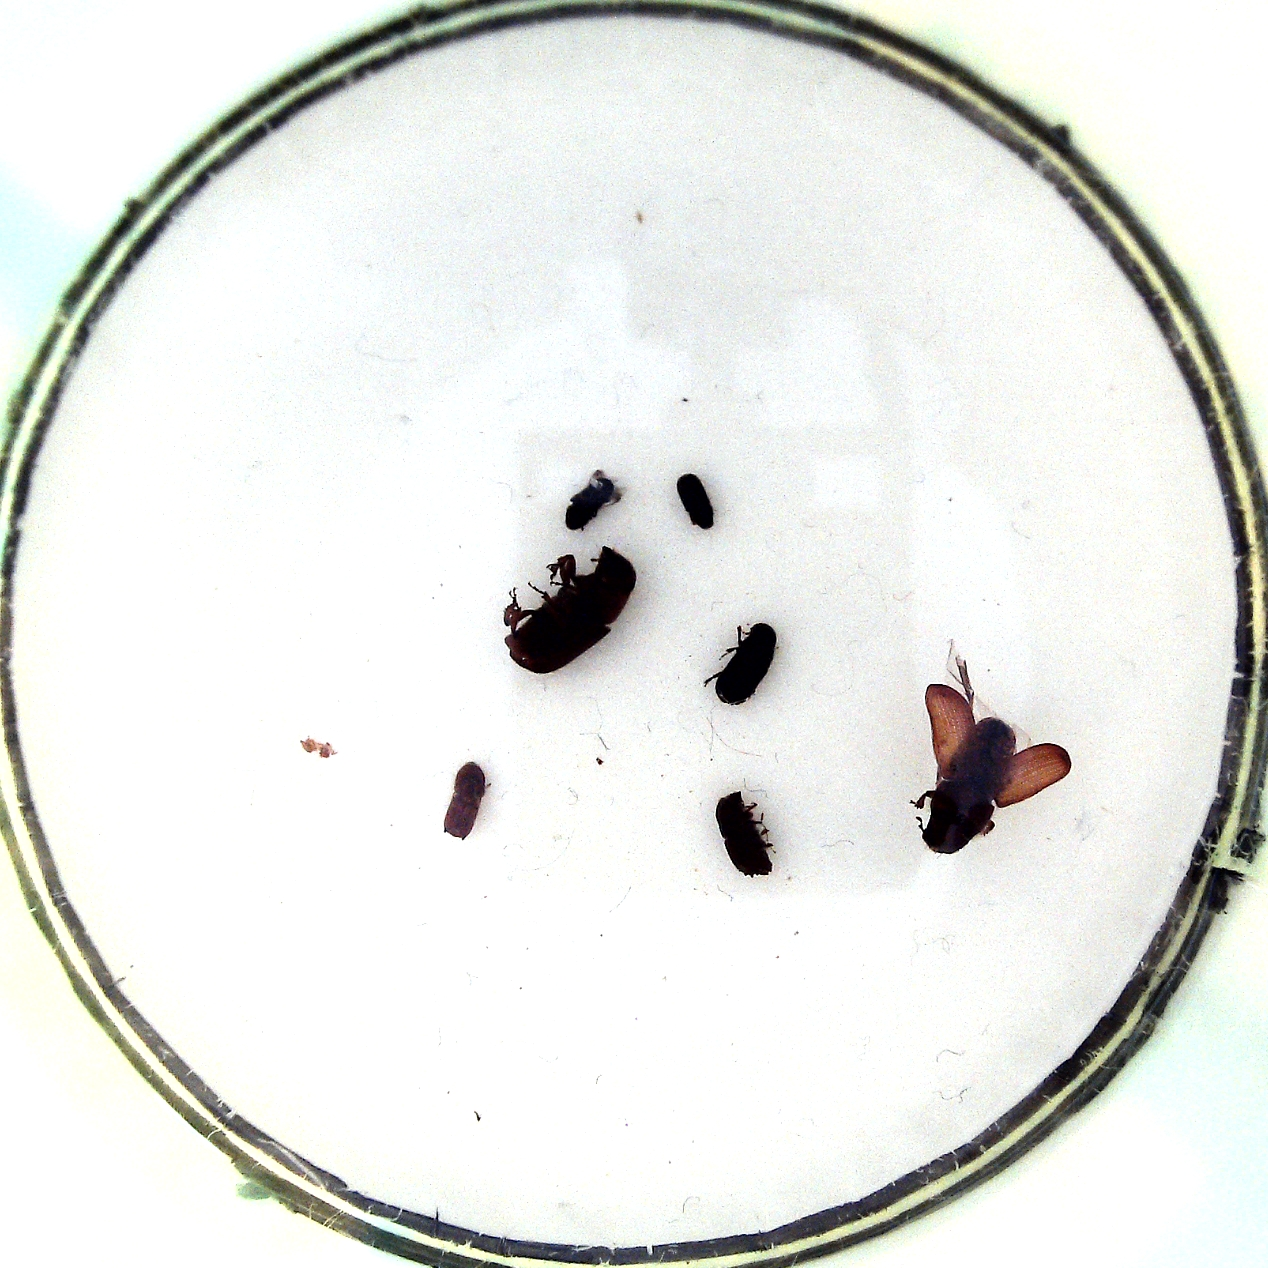Leconte: (913, 653, 1078, 859), (500, 546, 637, 677)
Linnaeus: (714, 788, 777, 881)
acuminatus: (441, 758, 493, 849)
armandi: (698, 618, 780, 709)
coleoptera: (563, 471, 624, 543), (673, 469, 716, 533)
